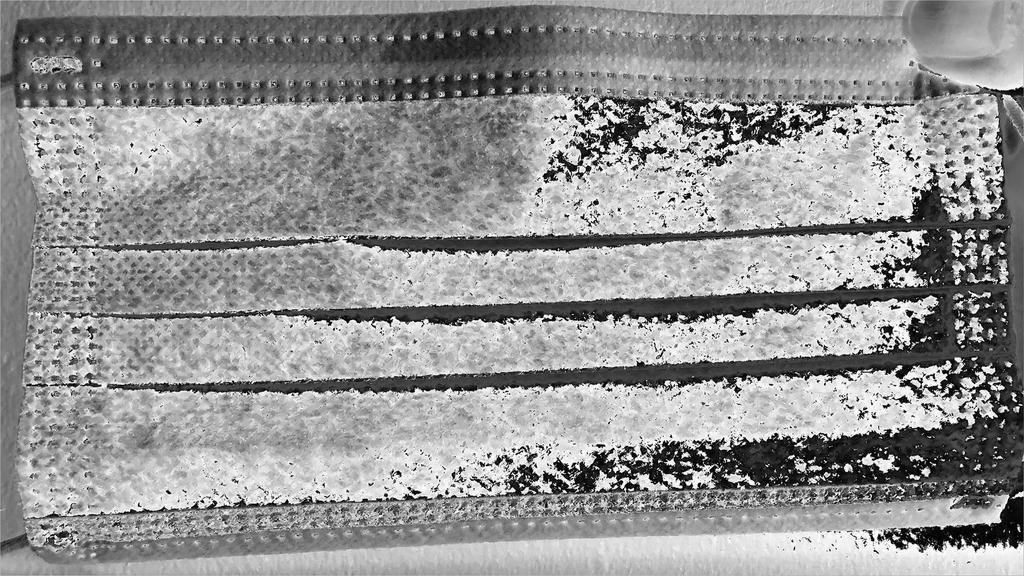High GSM: (14, 94, 1022, 557)
